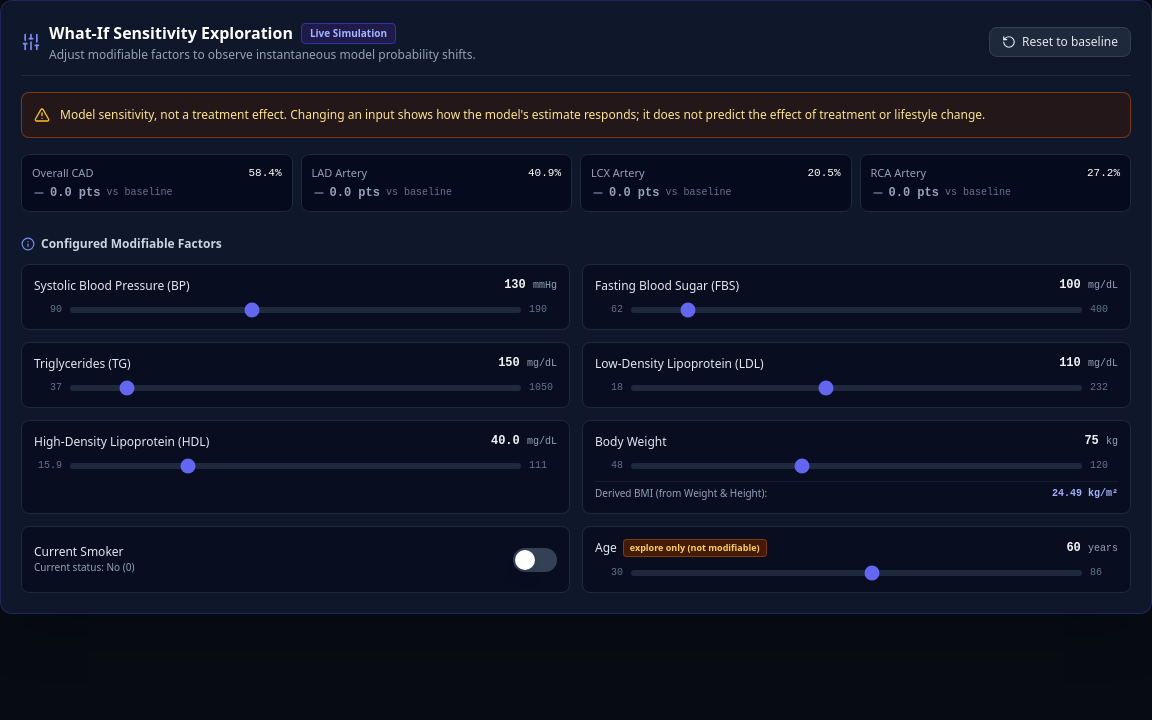
Test: T2-1: What-If Mode & Math Derivations › resets factors to baseline when Reset to baseline button is clicked
The image size is (1152, 720).
Set the slider named "Systolic Blood Pressure (BP)" to "170" at (426, 310), box [70,306,521,312]
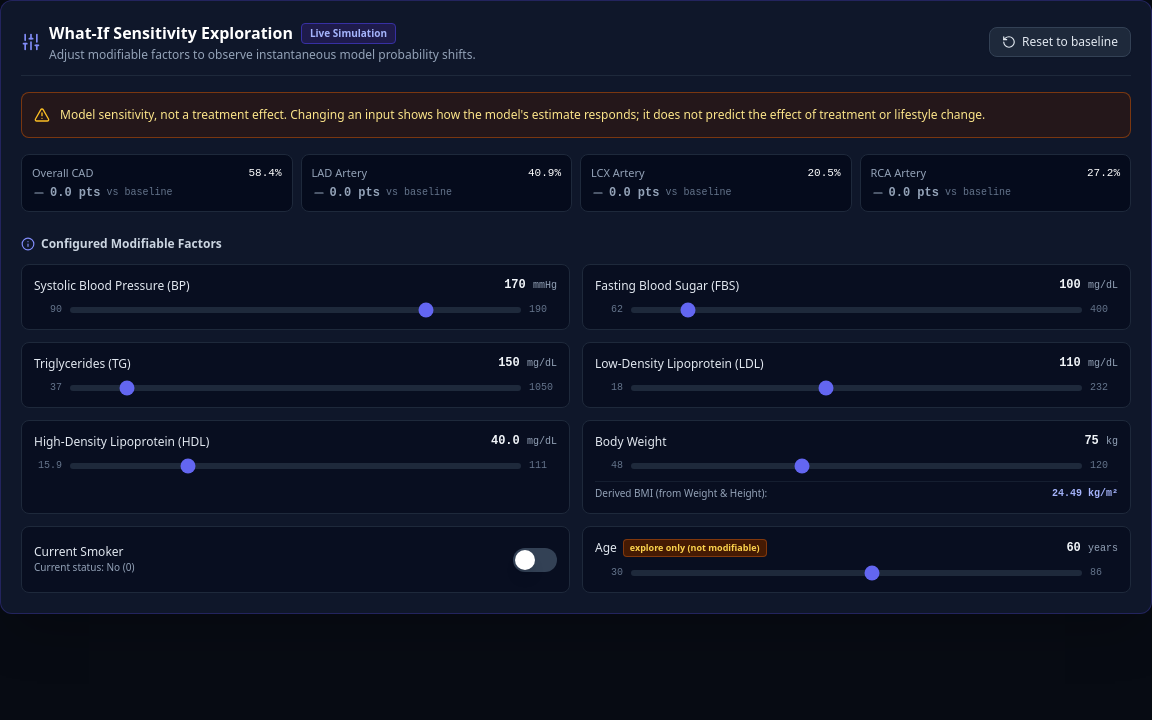
Click the button "Reset to baseline".
click(1060, 42)  # box [989,27,1131,57]
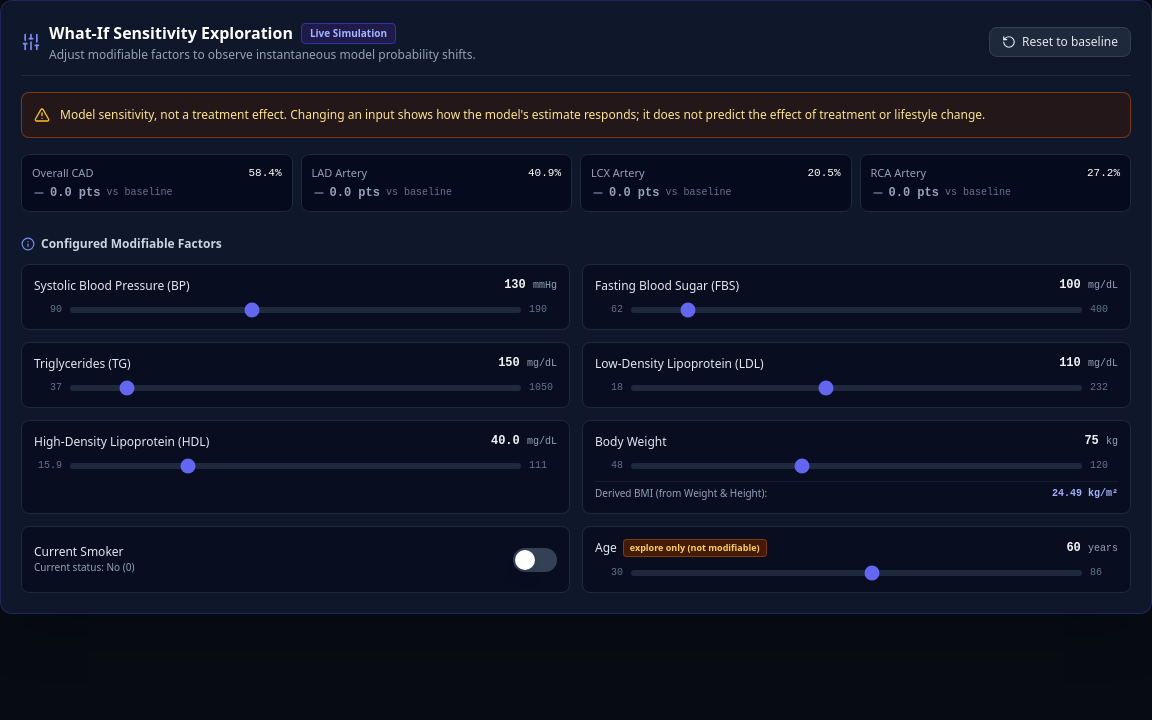
Now the slider named "Systolic Blood Pressure (BP)" holds "130", box [70,306,521,312]
